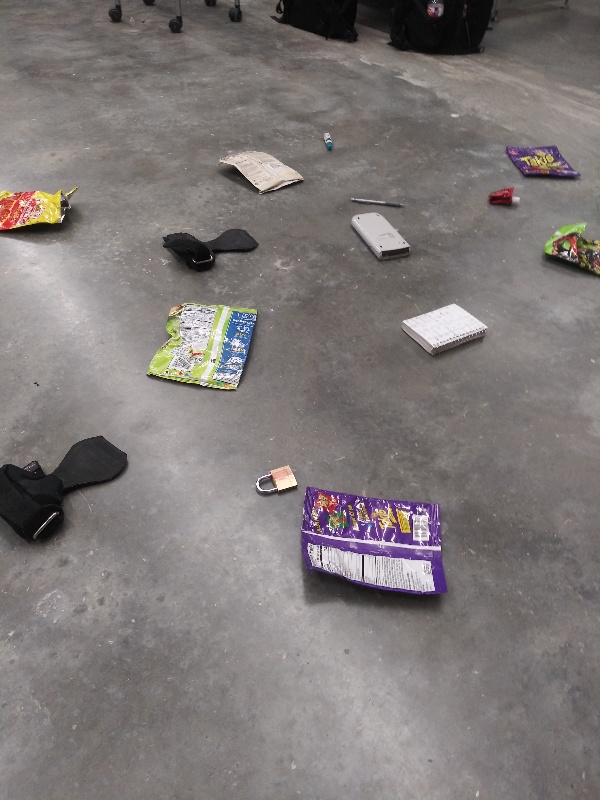bag: (296, 481, 449, 601), (141, 297, 261, 395), (211, 148, 313, 198), (1, 182, 85, 235), (533, 221, 600, 279), (497, 139, 590, 180)
